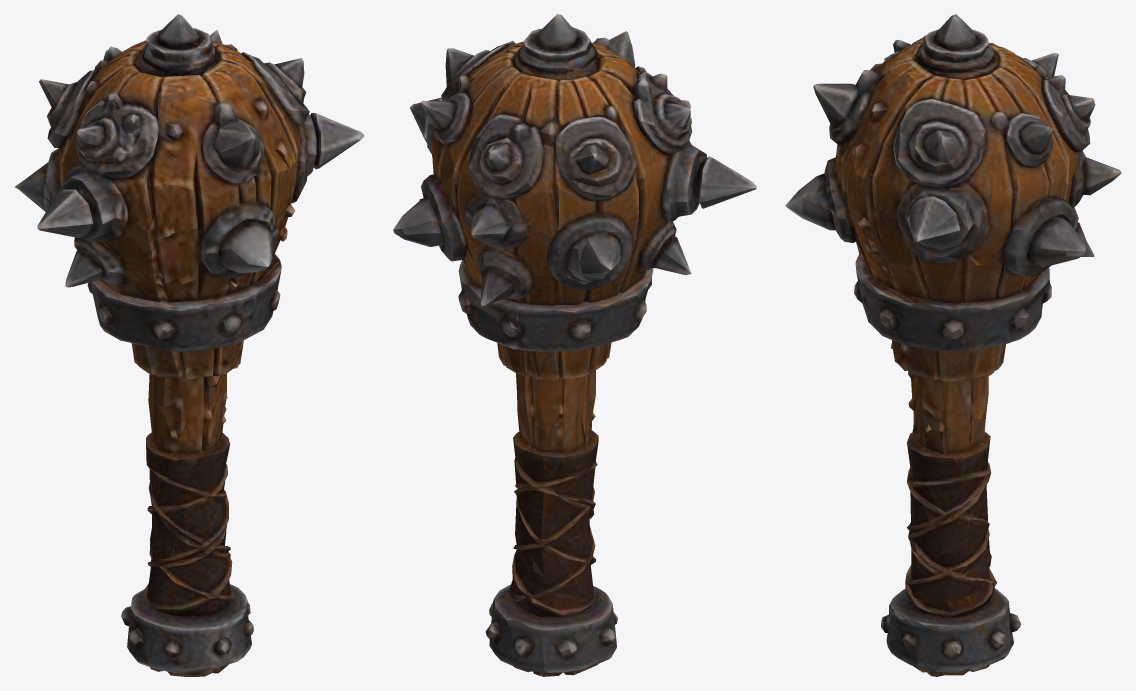
The model's file is club.glb.
The picture shows the model from 3 angles, left to right: view 1: azimuth 30°, elevation 25°; view 2: azimuth 150°, elevation 25°; view 3: azimuth 270°, elevation 25°; orthographic projection.
Parts seen in each view (by area): view 1: Mesh_0; view 2: Mesh_0; view 3: Mesh_0.
Boxes of the visible parts, x1=… form: Mesh_0: x1=15, y1=14, x2=364, y2=676; Mesh_0: x1=393, y1=14, x2=756, y2=676; Mesh_0: x1=785, y1=14, x2=1121, y2=676.
Bounding box in the file's own units: 1.03 × 1.9 × 0.8969.
Materials: 1 (1 with a texture image).
